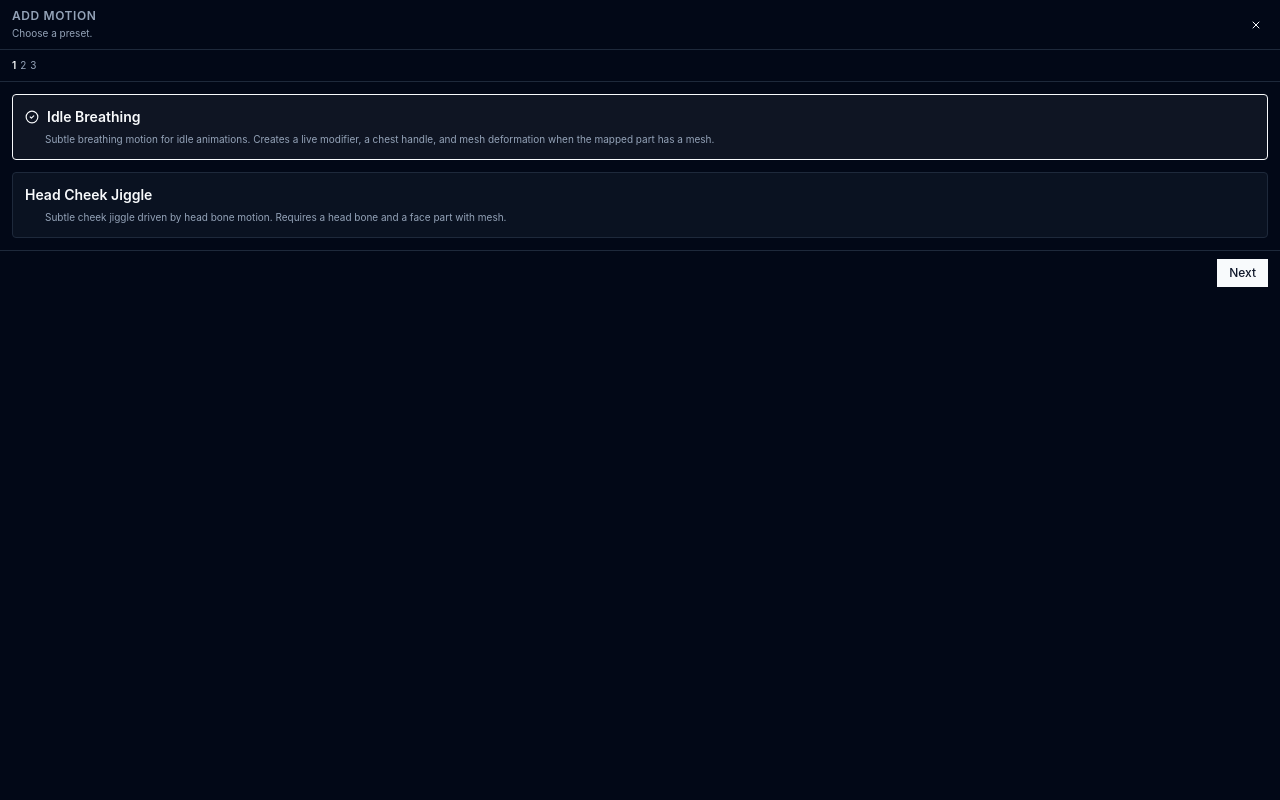
Test: AddMotionWizard › disables Next on mapRoles step when chest not bound
The width and height of the screenshot is (1280, 800).
Click the button "Next".
click(1243, 273)  # box 1217,259 -> 1268,287
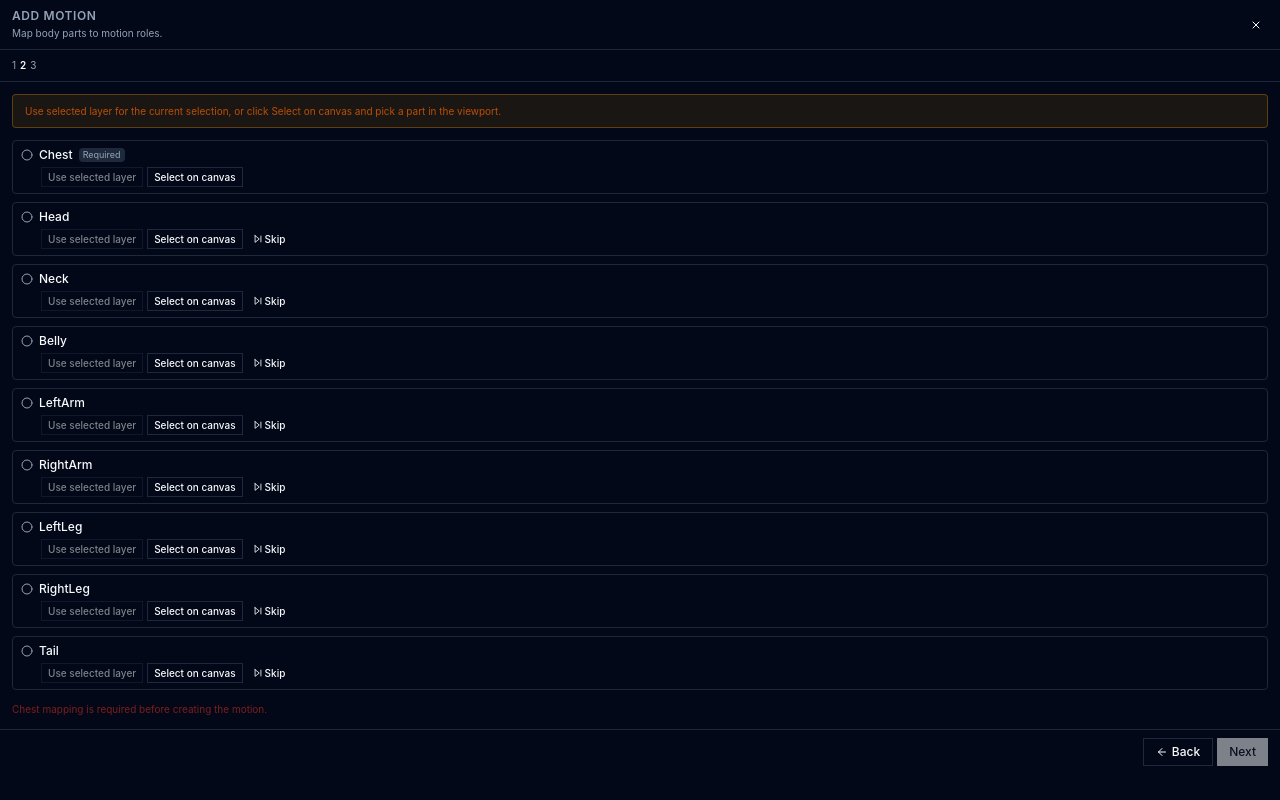
Result: the button "Next" is disabled at 1217,738 -> 1268,766
Result: the text "Chest mapping is required" is shown at 12,703 -> 267,715
